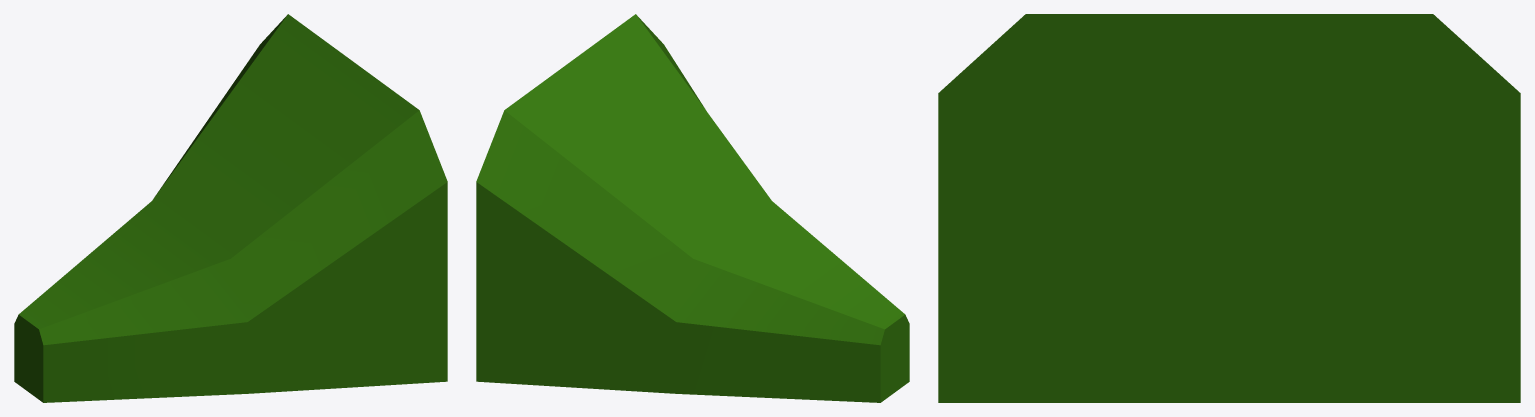
Rendered from snake_tail.fbx.
3 renders of one model, left to right at view 1: azimuth 30°, elevation 25°; view 2: azimuth 150°, elevation 25°; view 3: azimuth 270°, elevation 25°, orthographic. The views are drawn at different scales.
Visible parts, largest first — view 1: snake_tail; view 2: snake_tail; view 3: snake_tail.
Part boxes in pixels (x1,y1,x2,y2): snake_tail: [14, 14, 447, 402]; snake_tail: [476, 14, 909, 402]; snake_tail: [938, 14, 1520, 402].
Size of the model in its own units: 0.8 by 0.59 by 0.8.
1 material, 1 textured.
